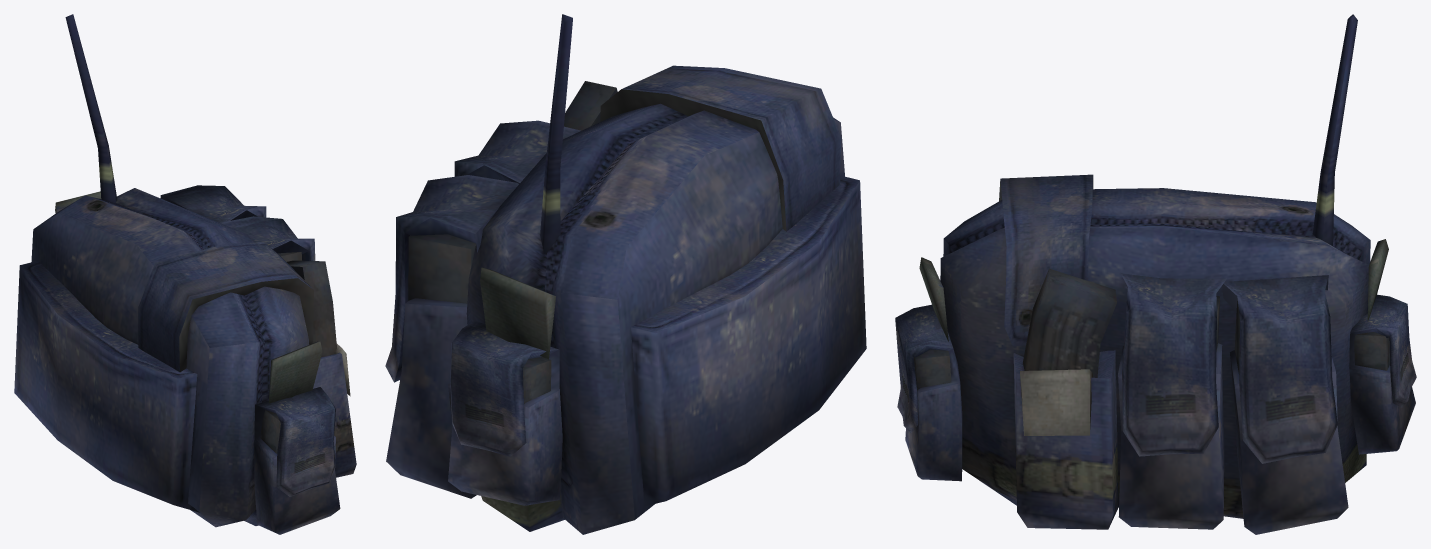
Rendered from p_glo_scavenger_pack_obj_LOD0.obj.
3 views of the same model, side by side, from view 1: azimuth 30°, elevation 25°; view 2: azimuth 150°, elevation 25°; view 3: azimuth 270°, elevation 25° (orthographic). The views are drawn at different scales.
Visible parts, largest first — view 1: mtl_p_glo_scavenger_pack_01_obj, mtl_p_glo_scavenger_pack_02_obj; view 2: mtl_p_glo_scavenger_pack_01_obj, mtl_p_glo_scavenger_pack_02_obj; view 3: mtl_p_glo_scavenger_pack_01_obj, mtl_p_glo_scavenger_pack_02_obj.
Boxes of the visible parts, left/top/right/bottom form: mtl_p_glo_scavenger_pack_01_obj: left=14, top=185, right=356, bottom=534; mtl_p_glo_scavenger_pack_02_obj: left=65, top=14, right=336, bottom=519; mtl_p_glo_scavenger_pack_01_obj: left=385, top=65, right=866, bottom=534; mtl_p_glo_scavenger_pack_02_obj: left=408, top=14, right=702, bottom=531; mtl_p_glo_scavenger_pack_01_obj: left=895, top=174, right=1416, bottom=534; mtl_p_glo_scavenger_pack_02_obj: left=914, top=14, right=1389, bottom=389.
Size of the model in its own units: 25.29 by 43.23 by 44.03.
